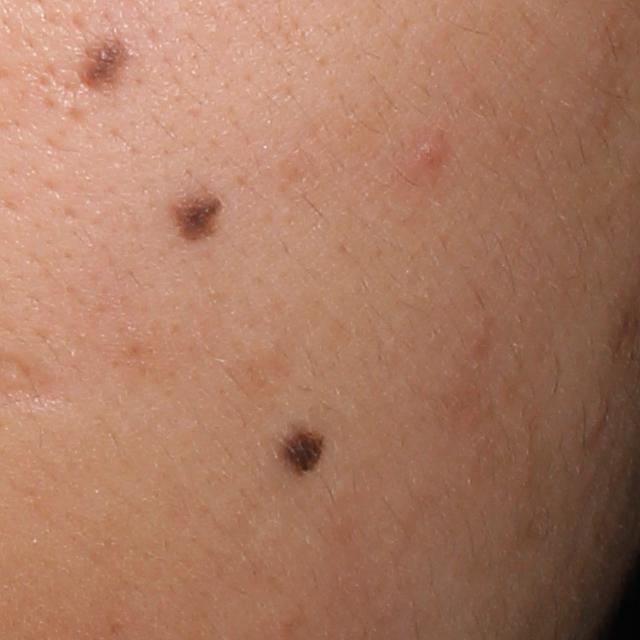nevus: (168, 170, 226, 243), (269, 408, 329, 478), (77, 29, 132, 100)
papule: (399, 130, 453, 176)
